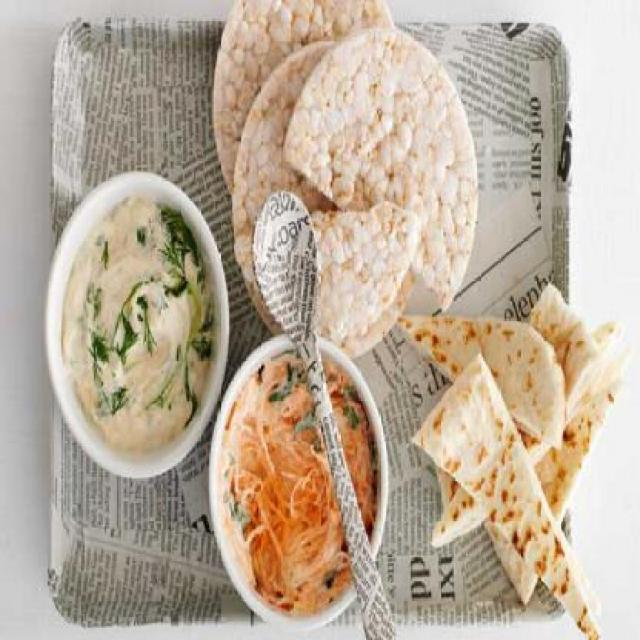Gallette di riso packaged: (289, 26, 497, 297)
